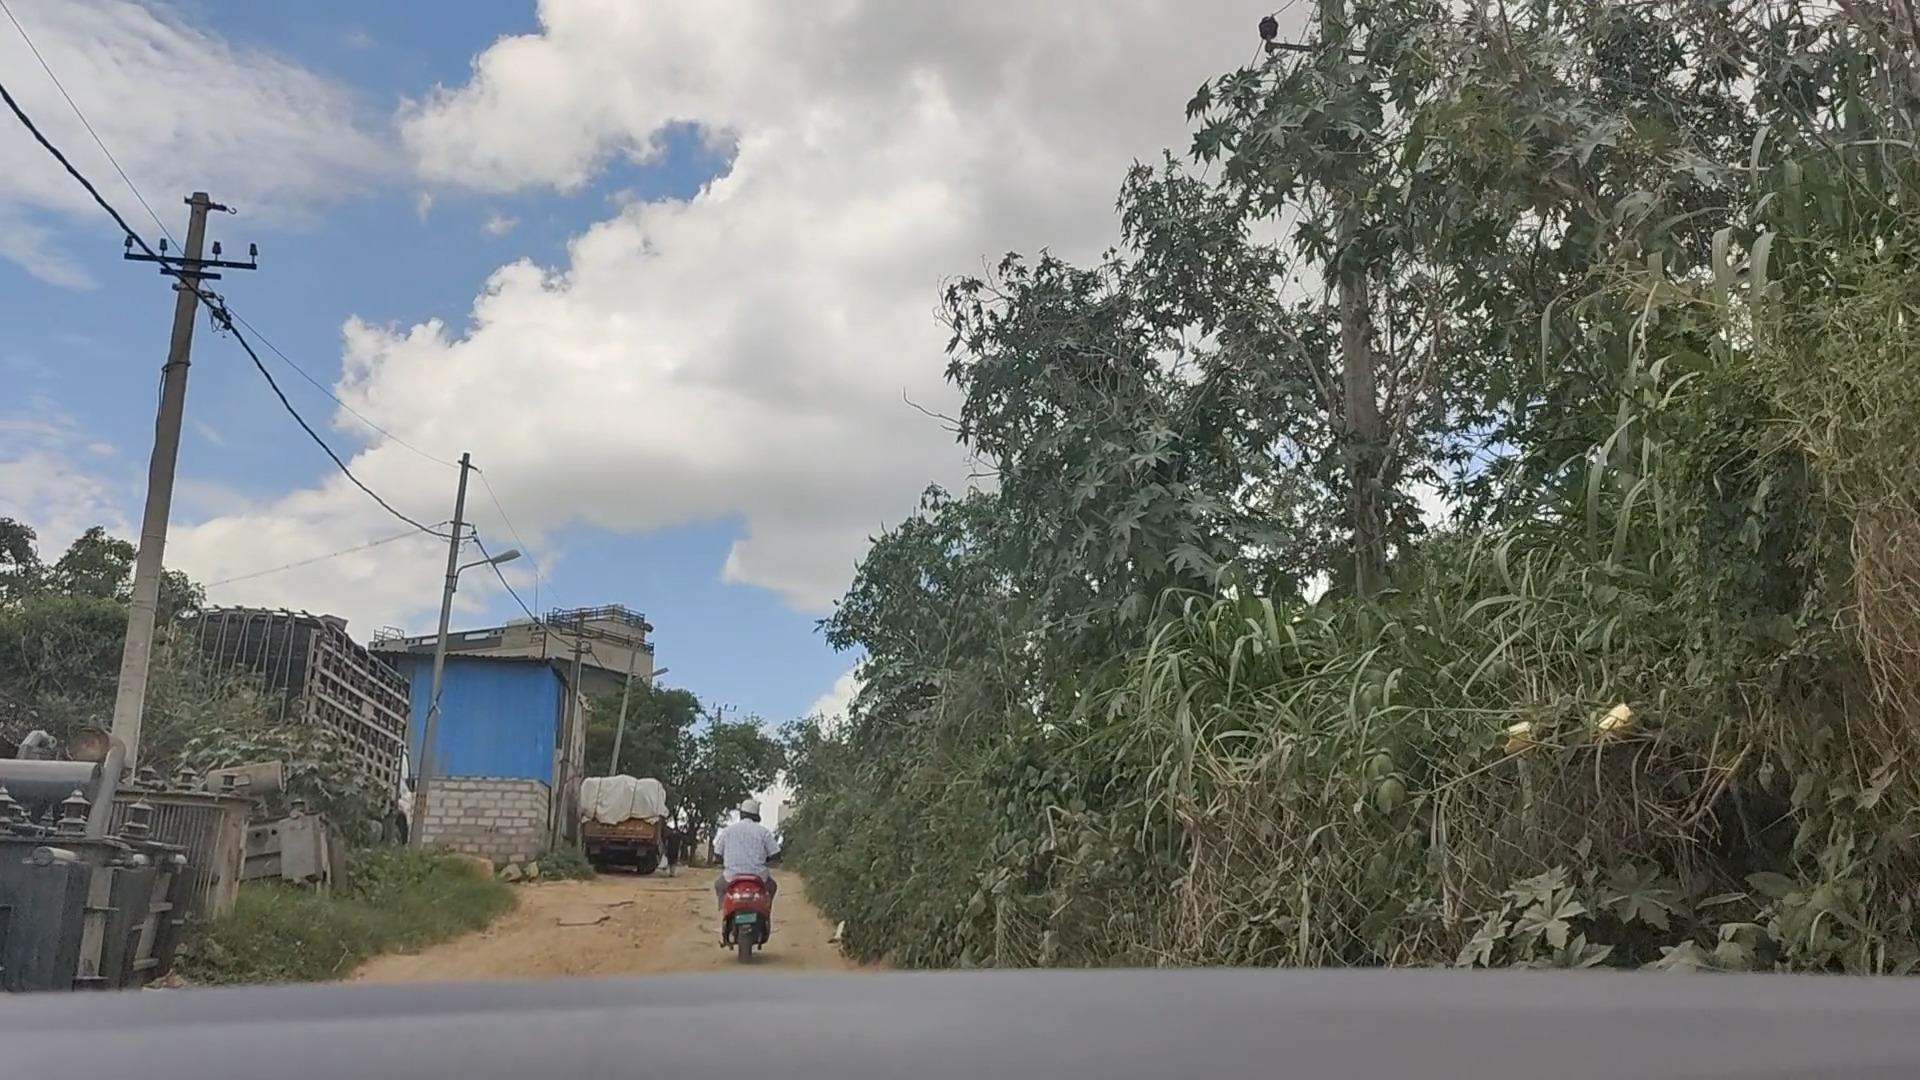HMV: (573, 761, 673, 879)
UnsurfacedRoad: (473, 886, 719, 984)
